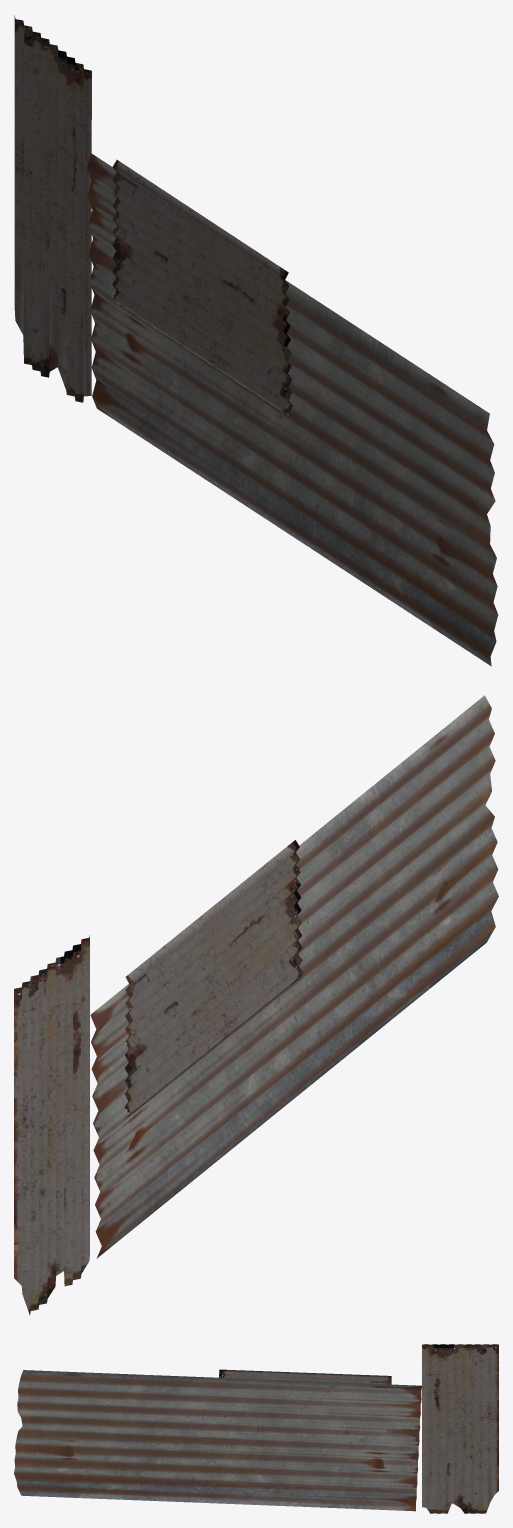
The model's file is casino_sheet_metal_side_bottom_b.glb.
The picture shows the model from 3 angles, top to bottom: view 1: azimuth 30°, elevation 25°; view 2: azimuth 150°, elevation 25°; view 3: azimuth 270°, elevation 25°; orthographic projection. The views are drawn at different scales.
Parts seen in each view (by area): view 1: casino_sheet_metal_side_bottom_b; view 2: casino_sheet_metal_side_bottom_b; view 3: casino_sheet_metal_side_bottom_b.
Boxes of the visible parts, x1,y1,x2,y2 form: casino_sheet_metal_side_bottom_b: (14,15,498,666); casino_sheet_metal_side_bottom_b: (14,695,498,1314); casino_sheet_metal_side_bottom_b: (14,1344,498,1513).
Bounding box in the file's own units: 0.051 × 1.72 × 4.45.
2 materials, 2 textured.
